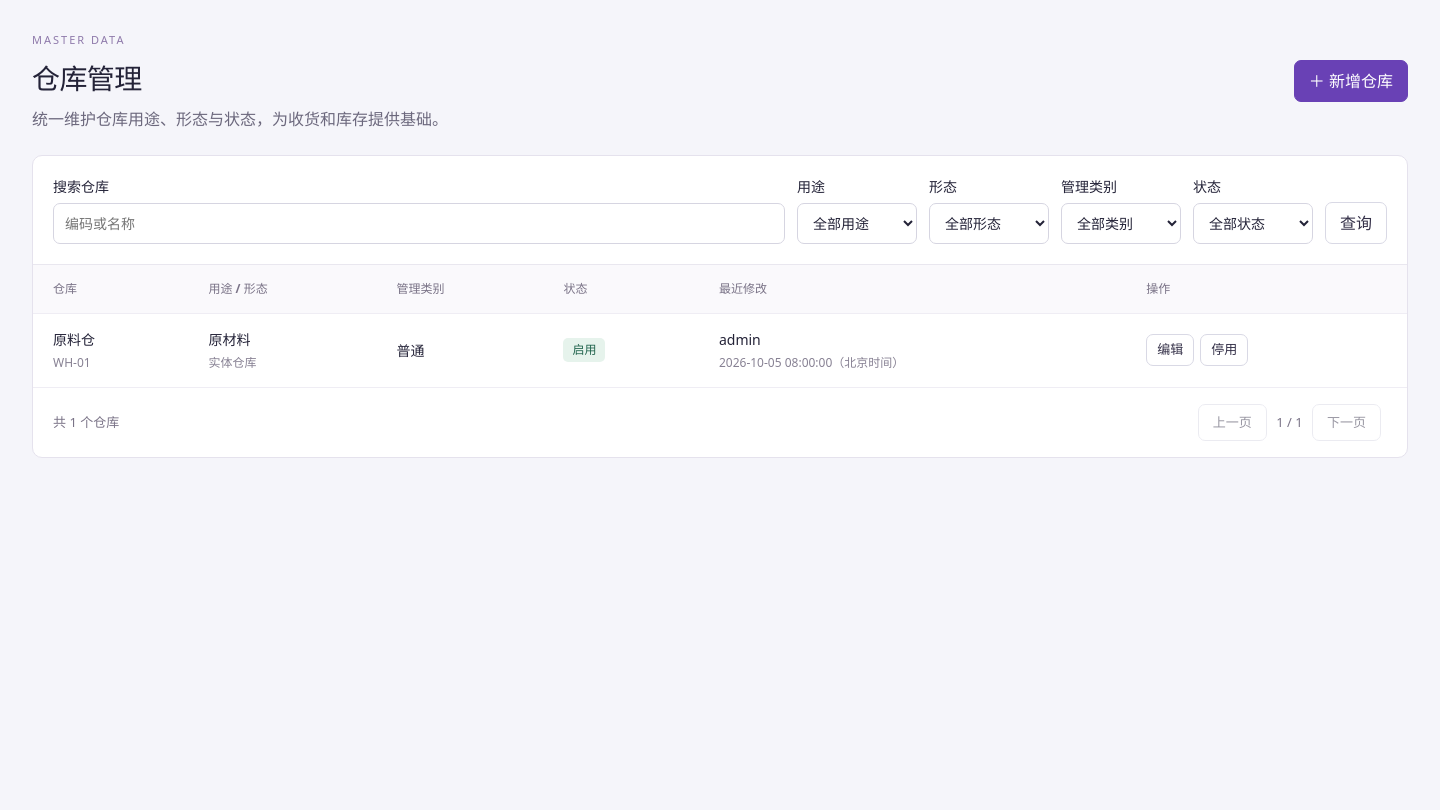
Test: warehouse management › protects structural fields and preserves the form on stale update
The width and height of the screenshot is (1440, 810).
Click the button "编辑" at (1170, 350), box [1146, 334, 1194, 366]
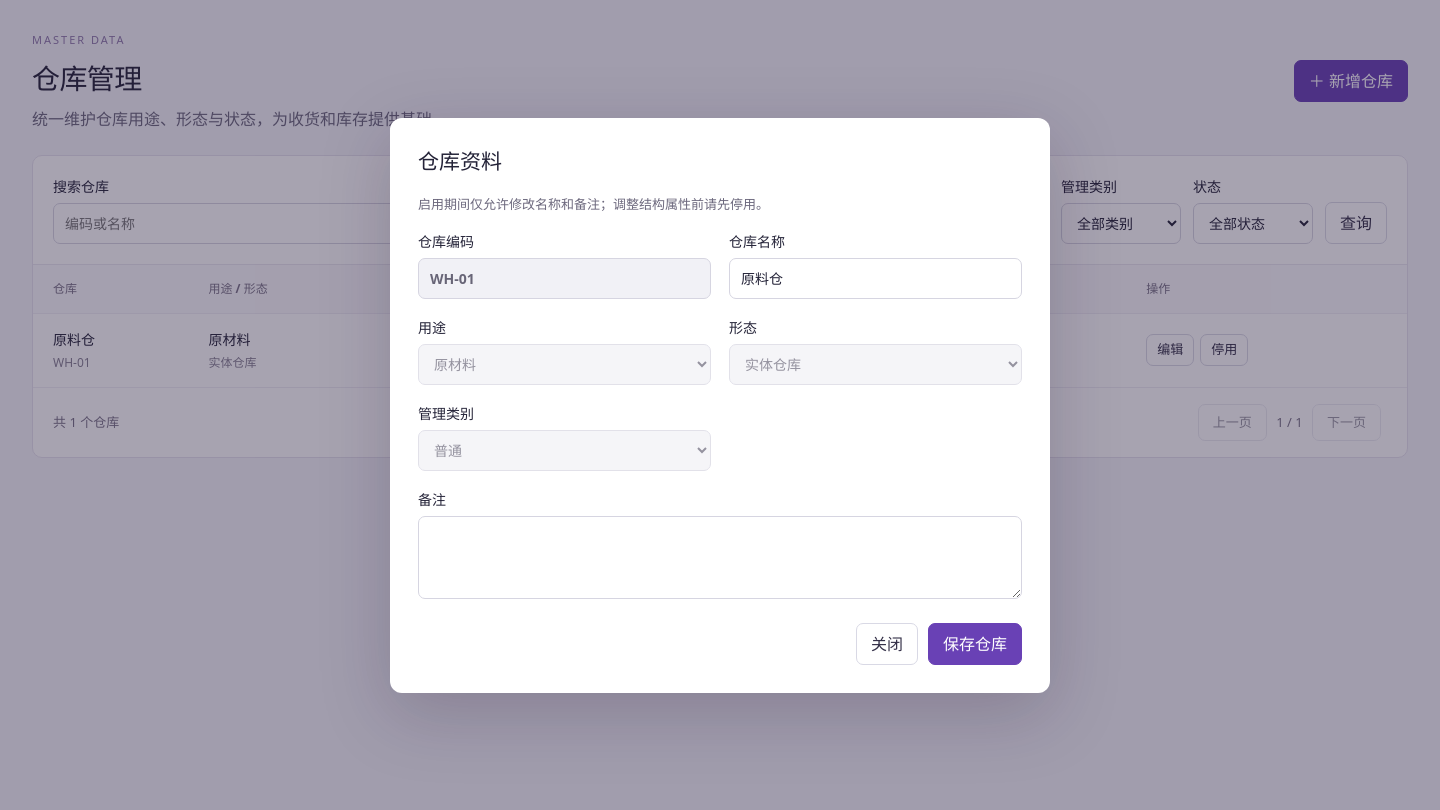
Submit the form, box [418, 230, 1022, 664]
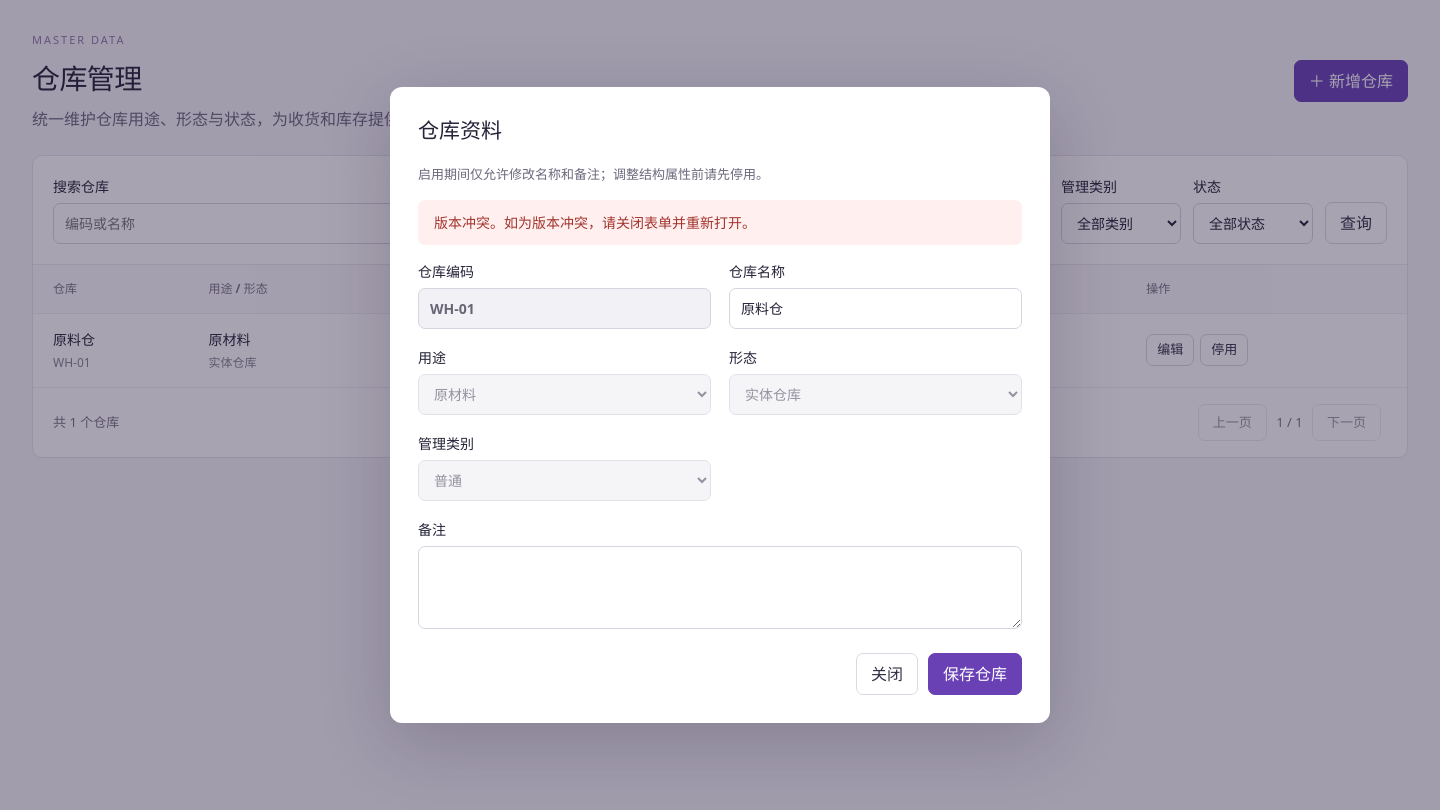
Now the dialog shows "重新打开", box [434, 213, 756, 232]
